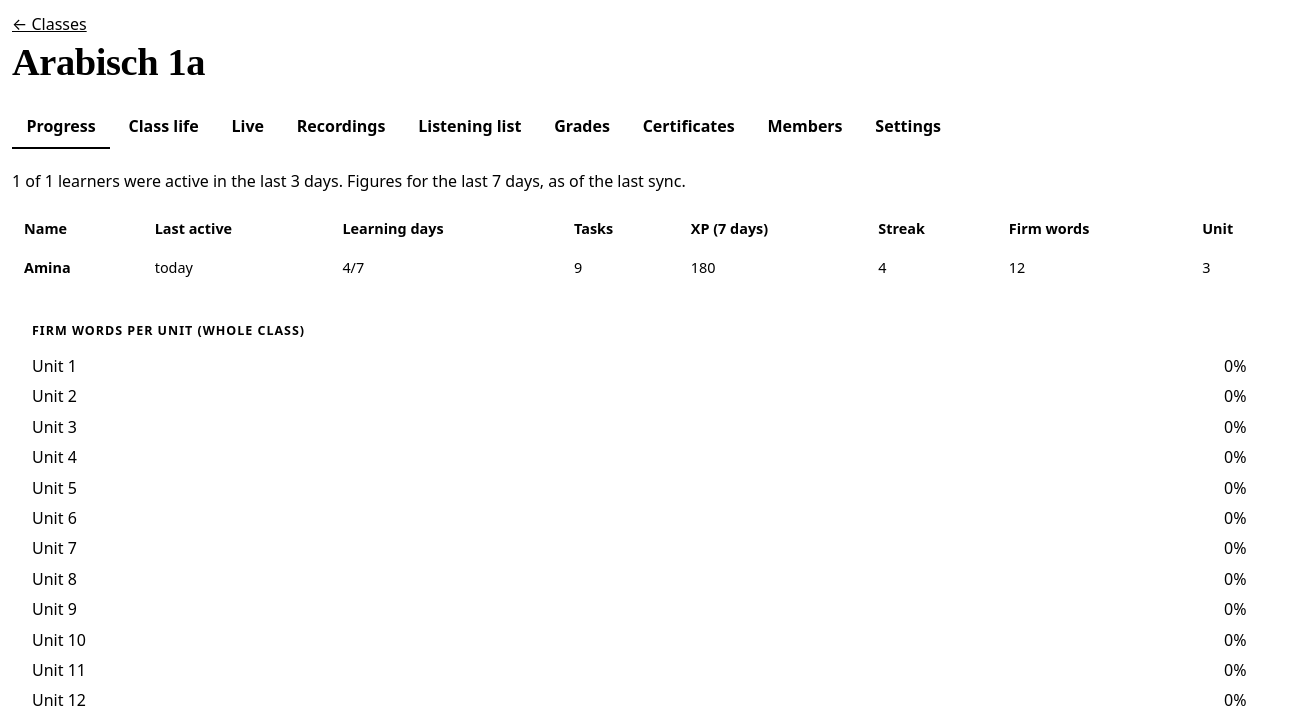
Scenario: classes in English (integration) › shows a teacher the class page with its tabs in English
Expected: the column heading "Last active" is shown, [143,209,330,248]
Expected: the row "Amina today 4/7 9 180 4 12 3" is shown, [12,248,1291,288]
Click the tab "Class life" at (164, 127), box [114,104,213,149]
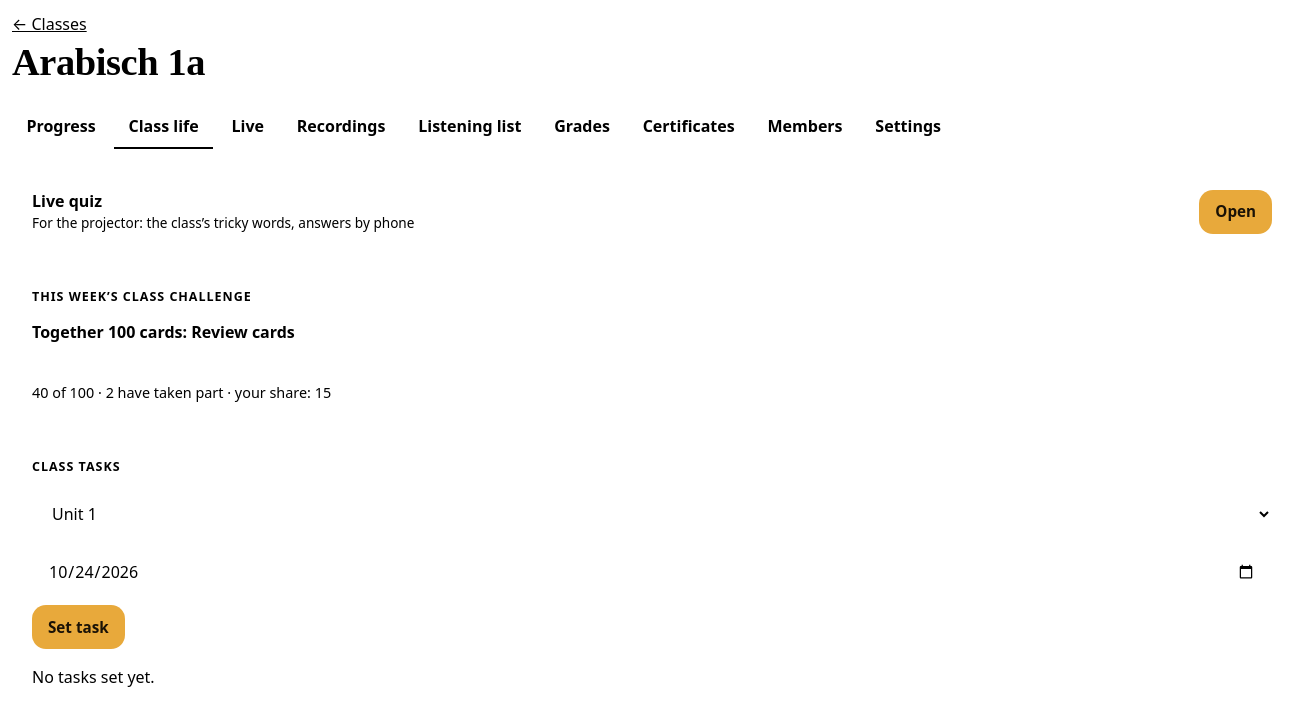
Now the text "Together 100 cards: Review cards" is shown, box [32,321,295,343]
Now the text "40 of 100 · 2 have taken part · your share: 15" is shown, box [32,383,331,402]
Now the heading "Class tasks" is shown, box [32,458,120,475]
Click the tab "Members" at (805, 127), box [753,104,857,149]
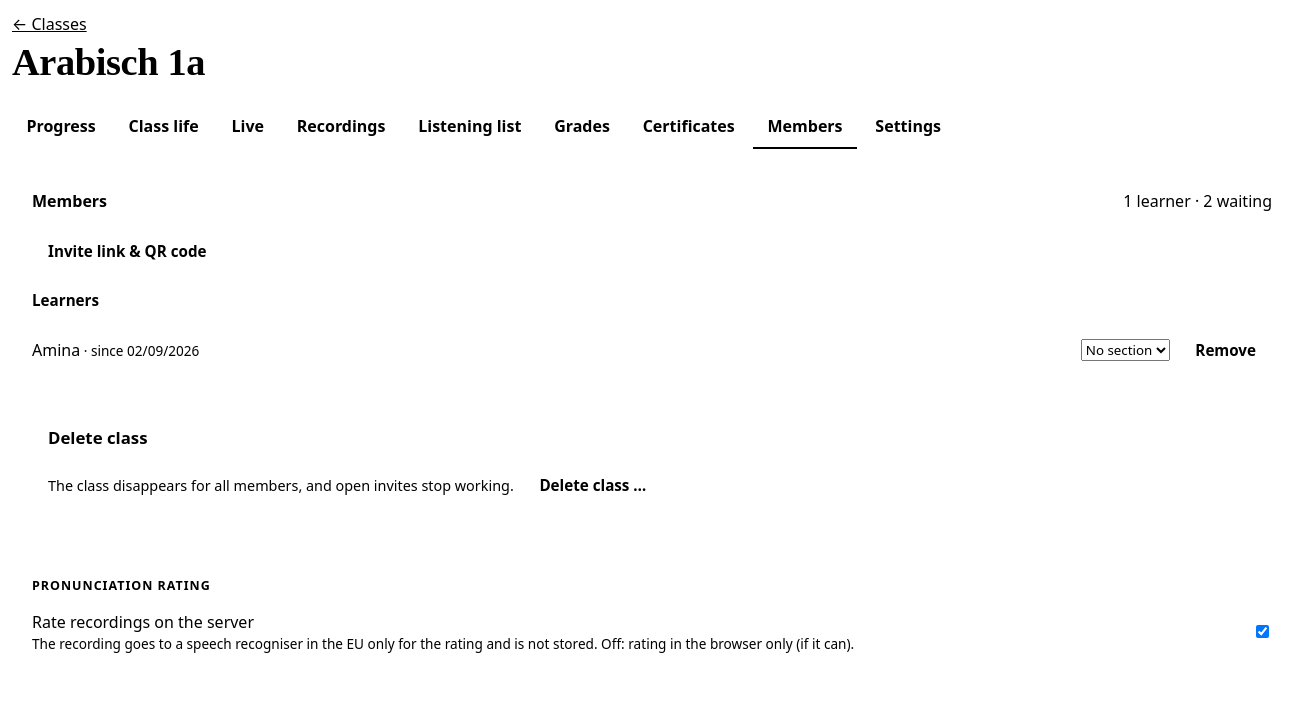
Now the button "Invite link & QR code" is shown, box [32,229,222,273]
Now the button "Delete class …" is shown, box [523,464,662,508]
Now the checkbox labelled "Rate recordings on the server" is checked, box [1256,626,1269,638]
